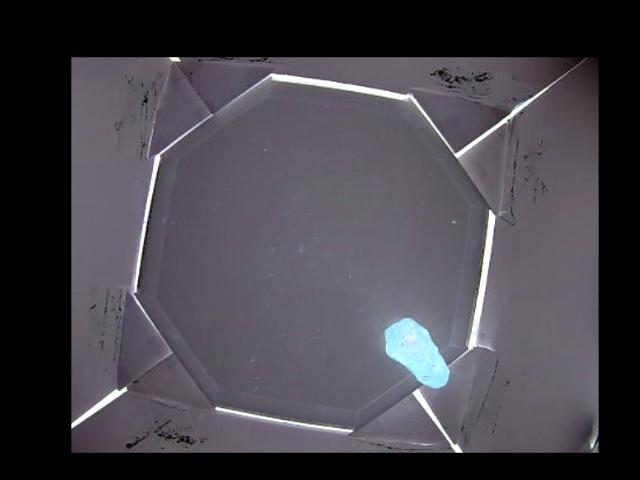Brisk: (383, 319, 452, 386)
